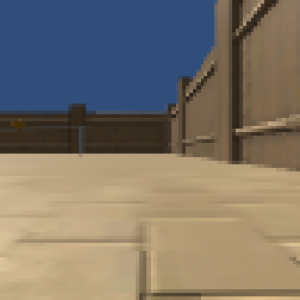goodGoalMulti: (12, 118, 25, 132)
wall: (78, 125, 87, 155)
